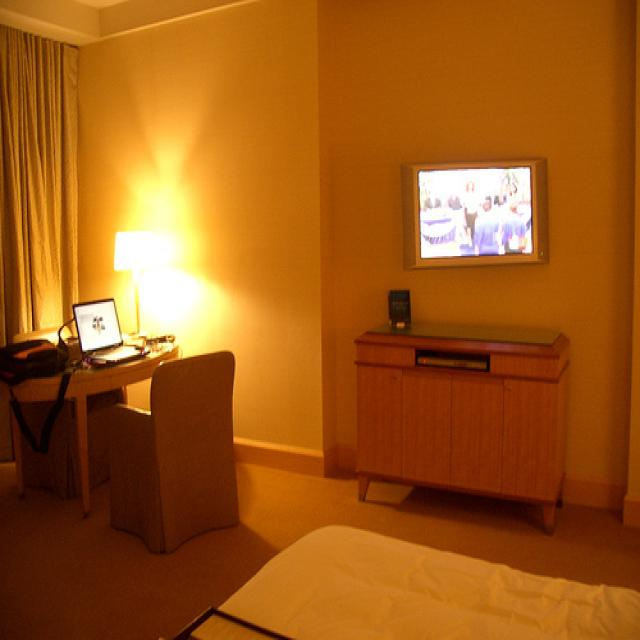chair: (102, 349, 247, 559)
tvmonitor: (394, 152, 549, 273)
